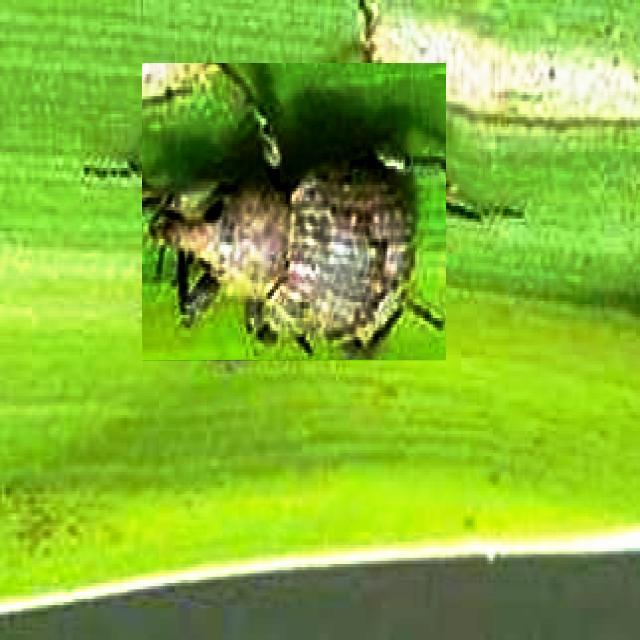rice-bug: (142, 64, 446, 362)
